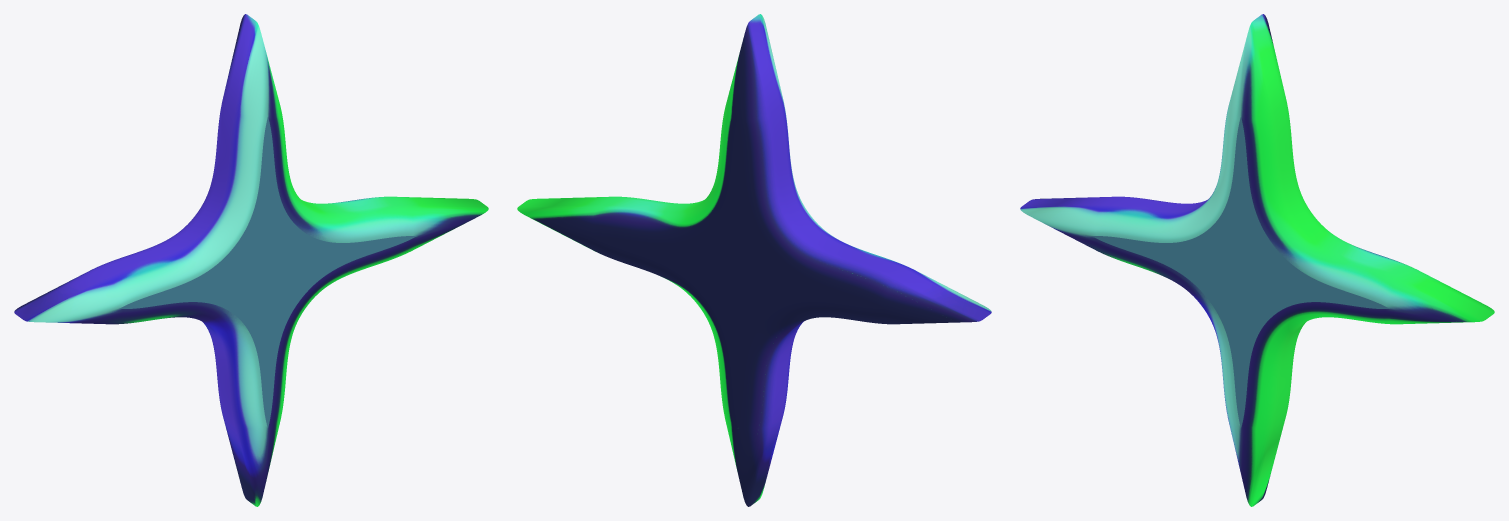
Rendered from sparkle.glb.
3 renders of one model, left to right at view 1: azimuth 30°, elevation 25°; view 2: azimuth 150°, elevation 25°; view 3: azimuth 330°, elevation 25°, orthographic.
Parts seen in each view (by area): view 1: curve.005; view 2: curve.005; view 3: curve.005.
Boxes of the visible parts, x1,y1,x2,y2 form: curve.005: (14,14,488,506); curve.005: (517,14,991,506); curve.005: (1020,14,1494,506).
Size of the model in its own units: 3.57 by 3.57 by 0.44.
Materials: 1 (1 with a texture image).
